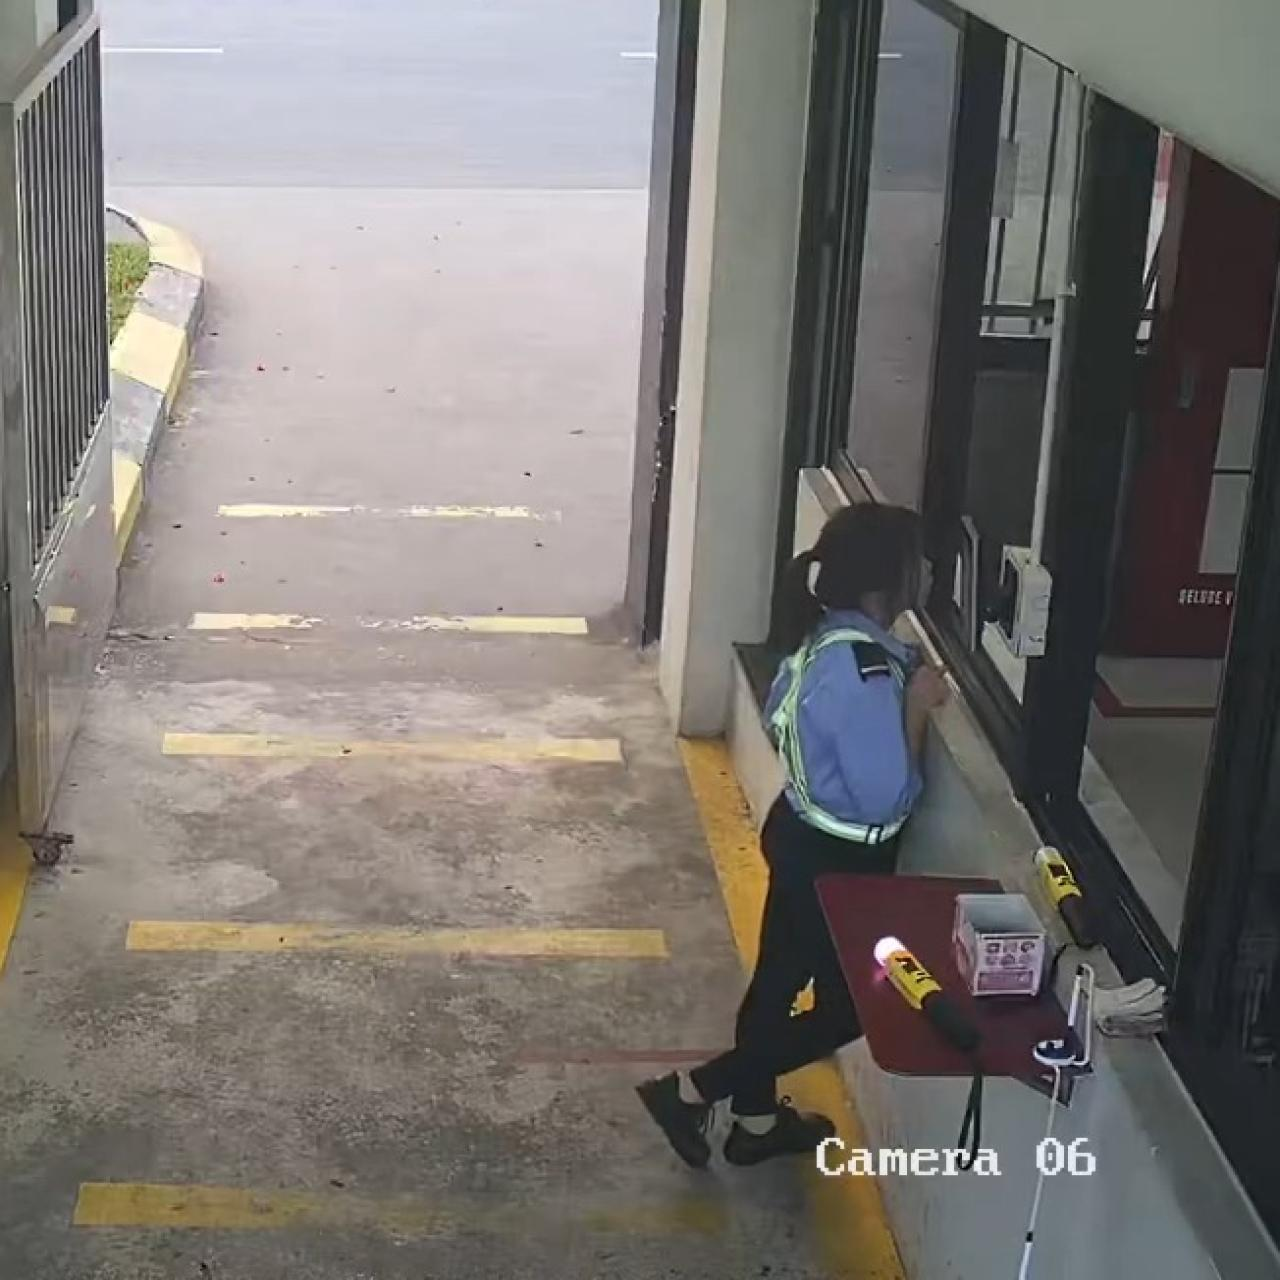breathalyzer: (867, 925, 990, 1057), (1017, 832, 1117, 968)
guard: (629, 498, 954, 1171)
